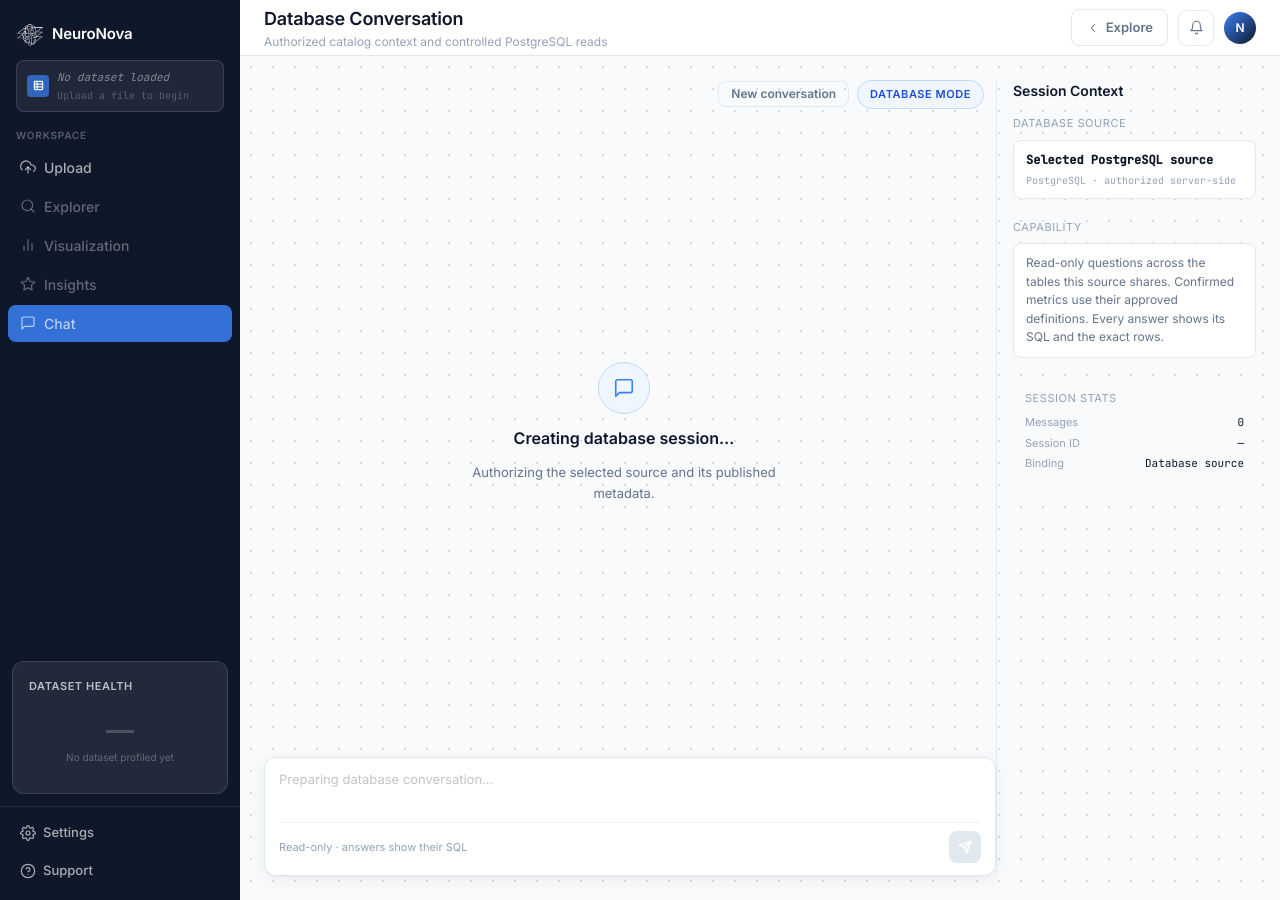
it: explains why repeated categories remain table-only
Type "Show revenue by region" into the text box named "Database question" at [630, 790], box [279,770,981,809]
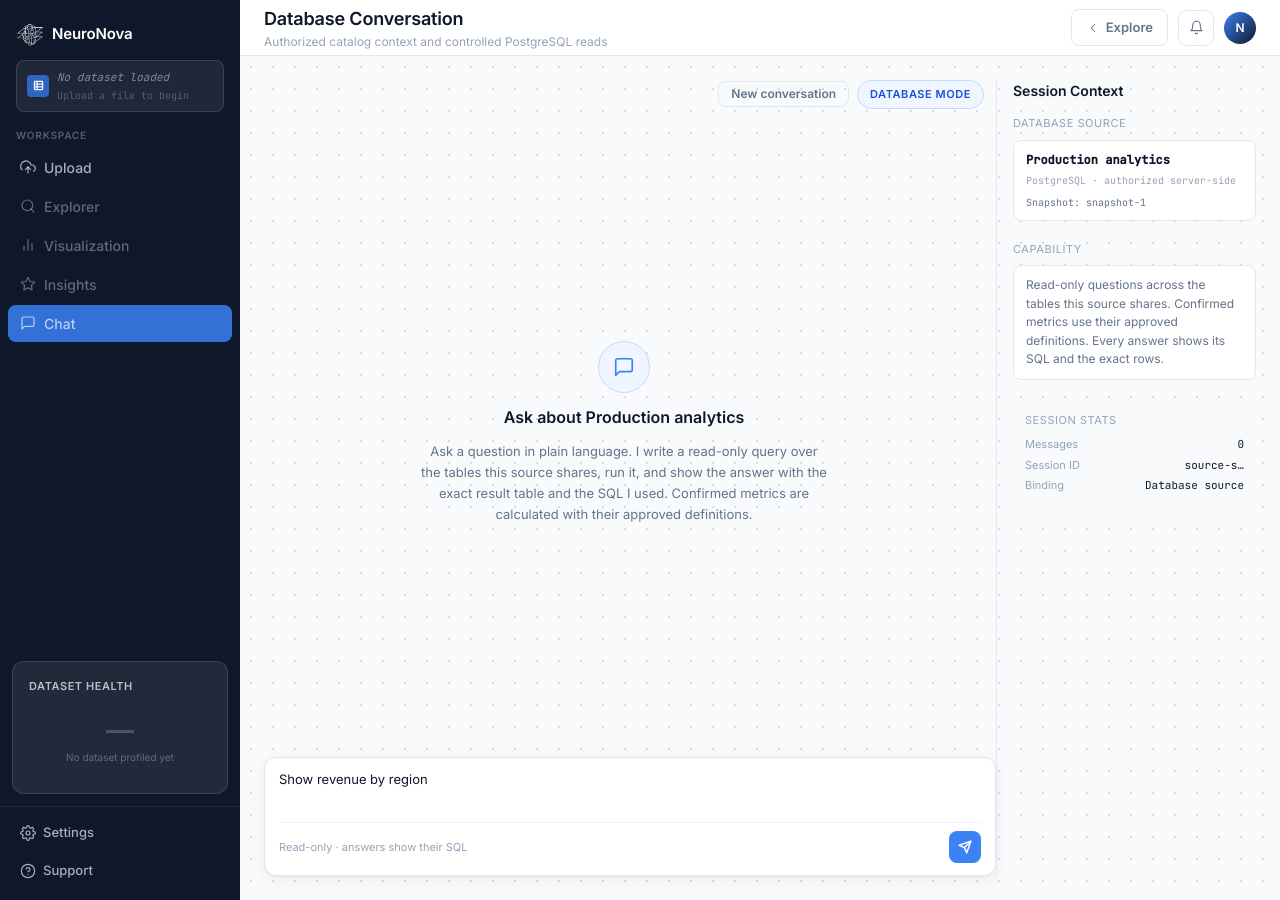
Click the button named "Send database question" at [965, 847], box [949,831,981,863]
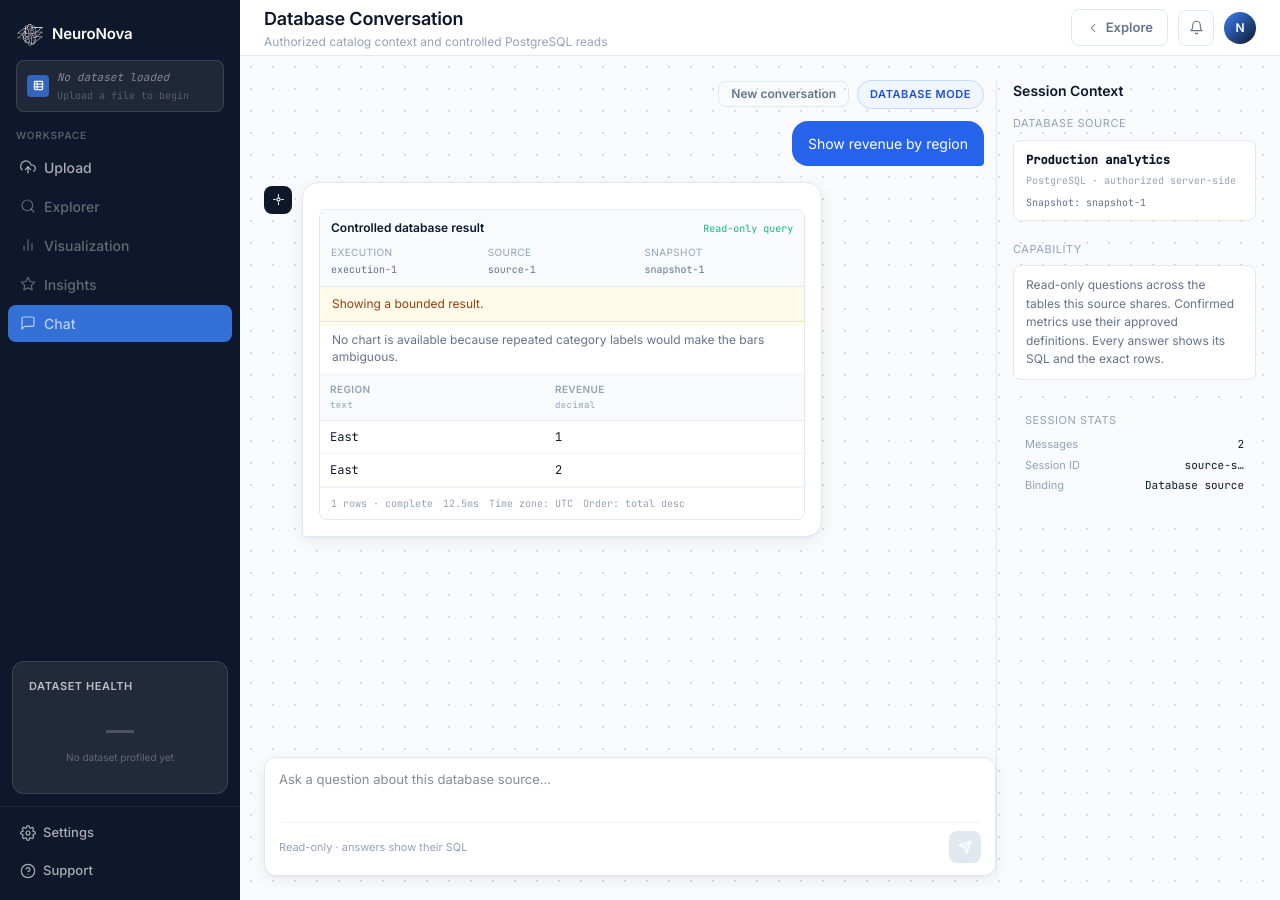
Result: the text "repeated category labels would make the bars ambiguous" is shown at [332,332,764,364]
Result: the panel named "Database result table" is shown at [320,375,804,487]
